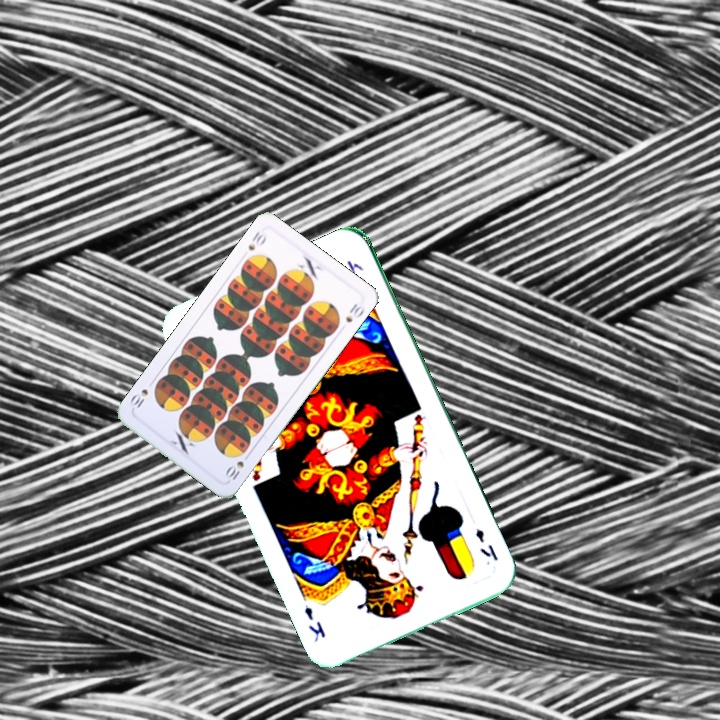EK: (471, 524, 501, 563)
S10: (221, 449, 253, 483), (244, 227, 269, 253)
